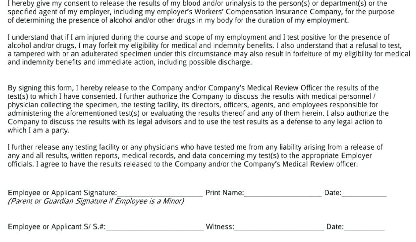textline: (104, 219, 206, 232), (233, 219, 326, 232), (116, 187, 205, 198), (242, 187, 324, 198), (342, 220, 387, 233), (340, 188, 389, 198)
